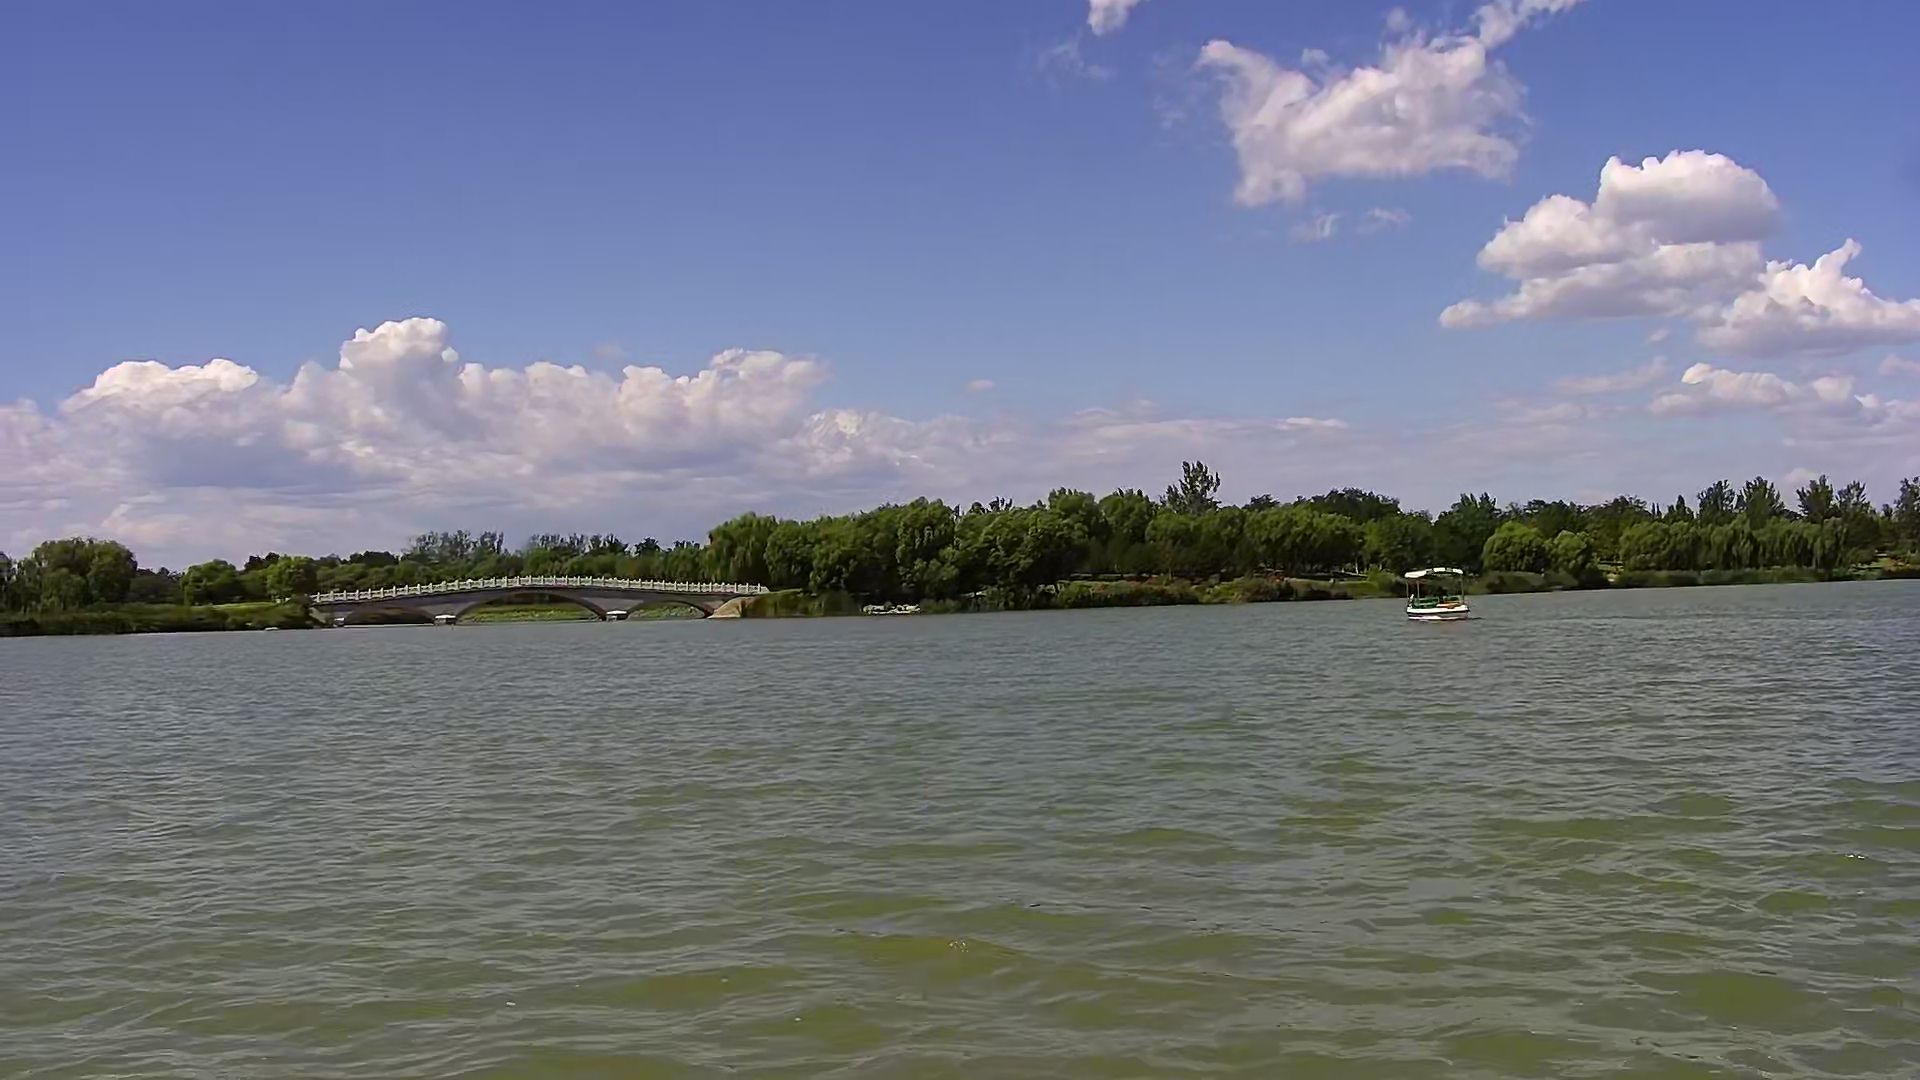boat: (1400, 560, 1476, 622)
bridge: (338, 575, 741, 624)
